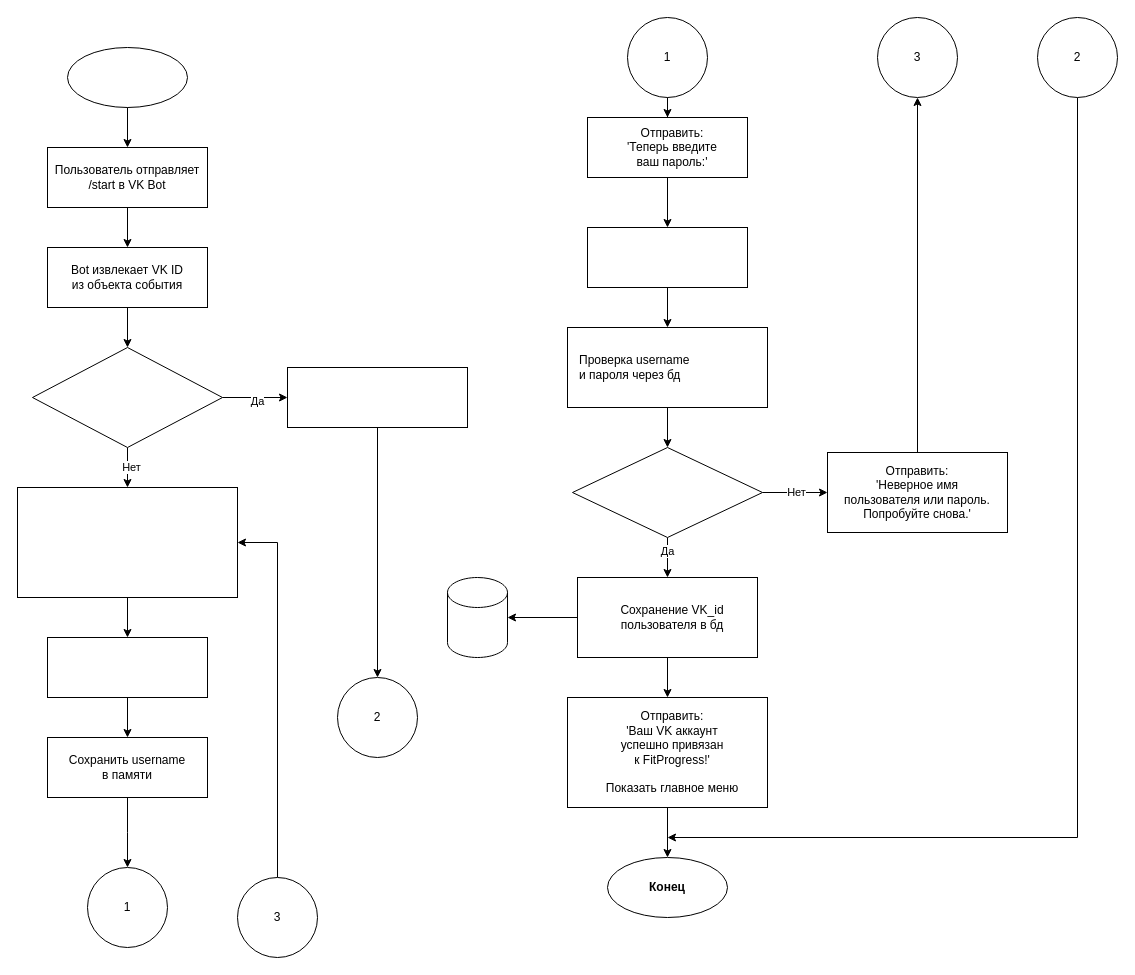
Image size: 1135x975. Some labels were removed from this diagram. The shapes that lost their labels are listed below. From the top down, each one's box as (x1, y1, x2, y2) in pixels, then its label:
(66, 46, 188, 108): Начало
(586, 226, 748, 288): Пользователь вводит пароль
(32, 346, 222, 448): VK ID уже привязан?
(286, 366, 468, 428): Отправить: '👋 Добро пожаловать!' Показать главное меню
(572, 446, 762, 538): Аутентификация успешна?
(16, 486, 238, 598): Отправить: 'Введите ваше имя пользователя (username) от FitProgress:'
(446, 576, 508, 658): БД
(46, 636, 208, 698): Пользователь вводит username
